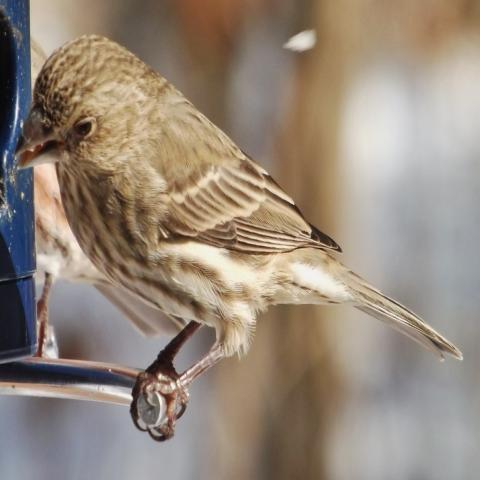bird: (13, 31, 464, 441)
